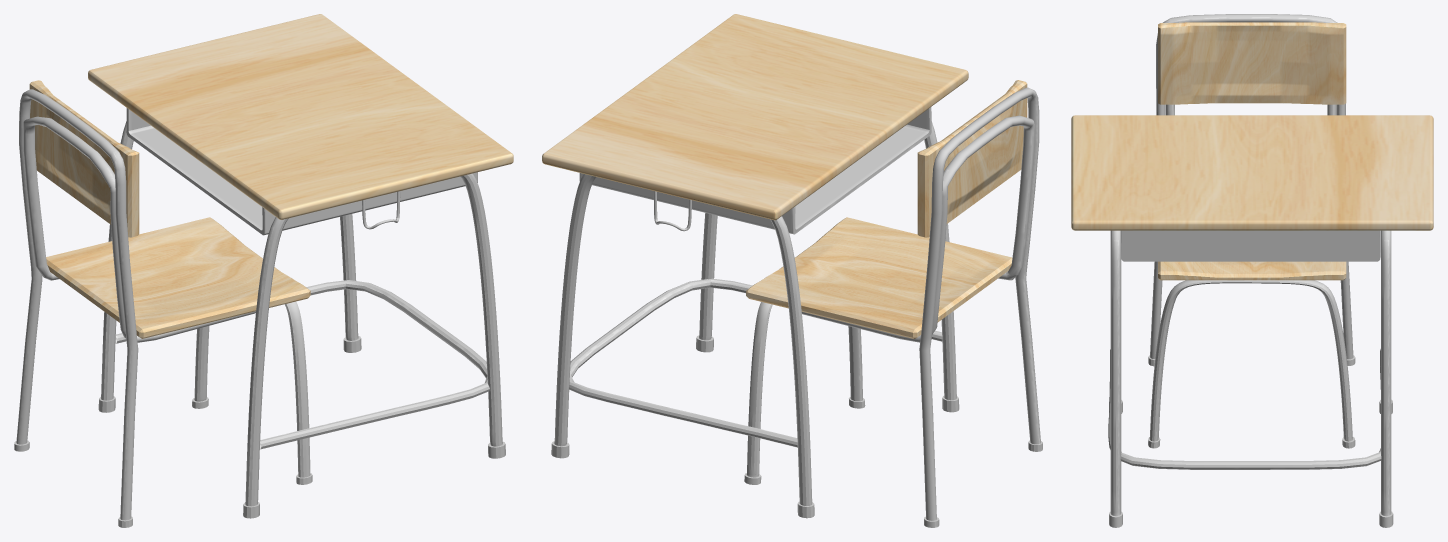
File: chair2.fbx
3 renders of one model, left to right at view 1: azimuth 30°, elevation 25°; view 2: azimuth 150°, elevation 25°; view 3: azimuth 270°, elevation 25°, orthographic. The views are drawn at different scales.
Parts seen in each view (by area): view 1: TAPA4, ASIENTO1, PATAS_T, PATAS_D2, RESPALDO1, CAJON, UNION, EXTRA, PATAS_D, PATAS_D1; view 2: TAPA4, ASIENTO1, PATAS_T, PATAS_D1, RESPALDO1, CAJON, UNION, EXTRA, PATAS_D2, PATAS_D; view 3: TAPA4, RESPALDO1, CAJON, PATAS_D, ASIENTO1, PATAS_D2, PATAS_T, PATAS_D1, UNION.
Boxes of the visible parts, x1=… form: TAPA4: x1=88, y1=14, x2=513, y2=219; ASIENTO1: x1=46, y1=217, x2=310, y2=338; PATAS_T: x1=14, y1=89, x2=138, y2=527; PATAS_D2: x1=243, y1=173, x2=505, y2=518; RESPALDO1: x1=29, y1=80, x2=139, y2=237; CAJON: x1=126, y1=108, x2=477, y2=235; UNION: x1=115, y1=280, x2=489, y2=449; EXTRA: x1=23, y1=116, x2=255, y2=342; PATAS_D: x1=192, y1=301, x2=312, y2=484; PATAS_D1: x1=98, y1=121, x2=361, y2=412; TAPA4: x1=542, y1=14, x2=968, y2=220; ASIENTO1: x1=746, y1=217, x2=1012, y2=338; PATAS_T: x1=919, y1=87, x2=1042, y2=527; PATAS_D1: x1=551, y1=174, x2=814, y2=518; RESPALDO1: x1=917, y1=80, x2=1027, y2=237; CAJON: x1=579, y1=107, x2=931, y2=234; UNION: x1=569, y1=278, x2=942, y2=447; EXTRA: x1=801, y1=115, x2=1034, y2=342; PATAS_D2: x1=696, y1=121, x2=959, y2=412; PATAS_D: x1=744, y1=302, x2=865, y2=484; TAPA4: x1=1071, y1=115, x2=1433, y2=230; RESPALDO1: x1=1158, y1=22, x2=1346, y2=104; CAJON: x1=1121, y1=230, x2=1380, y2=261; PATAS_D: x1=1148, y1=280, x2=1355, y2=448; ASIENTO1: x1=1158, y1=261, x2=1346, y2=280; PATAS_D2: x1=1109, y1=230, x2=1122, y2=527; PATAS_T: x1=1148, y1=14, x2=1355, y2=366; PATAS_D1: x1=1379, y1=230, x2=1393, y2=527; UNION: x1=1108, y1=349, x2=1381, y2=469.
Bounding box in the file's own units: 233 × 221 × 208.
